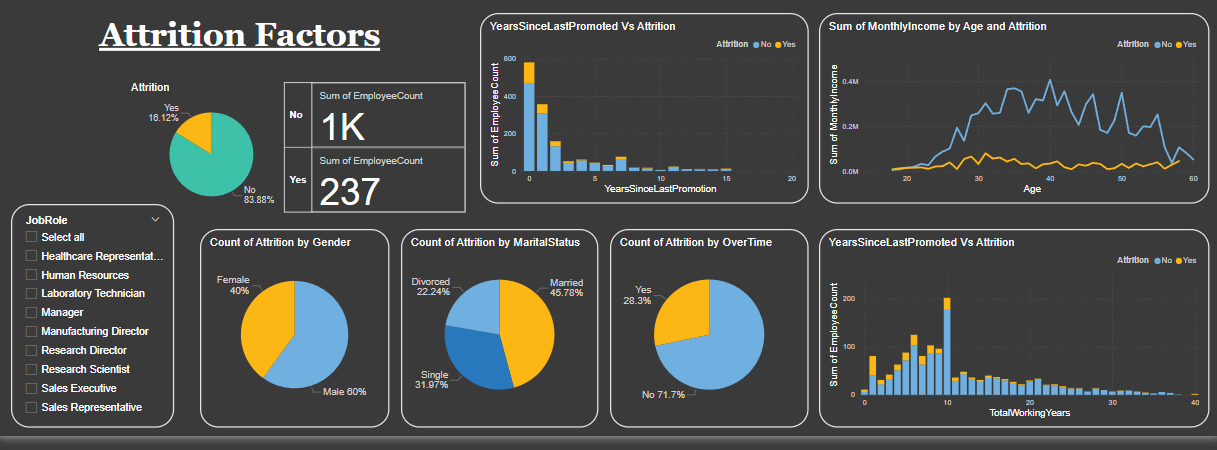

Layout of this report page (visuals, bound fields, positions):
{"tool":"powerbi","page":{"name":"Page 1","canvas":[2000,720],"ordinal":0},"visuals":[{"type":"columnChart","title":"YearsSinceLastPromoted  Vs Attrition","fields":{"Y":["Sum(employee_data.EmployeeCount)"],"Category":["employee_data.YearsSinceLastPromotion"],"Series":["employee_data.Attrition"]},"box":[789.2,28,537.6,311.8],"z":0},{"type":"pieChart","title":"Attrition","fields":{"Y":["CountNonNull(employee_data.Attrition)"],"Category":["employee_data.Attrition"]},"box":[212.9,139.8,273.1,219.4],"z":1000},{"type":"columnChart","title":"YearsSinceLastPromoted  Vs Attrition","fields":{"Y":["Sum(employee_data.EmployeeCount)"],"Category":["employee_data.TotalWorkingYears"],"Series":["employee_data.Attrition"]},"box":[1344.1,380.6,638.7,324.7],"z":2000},{"type":"pieChart","fields":{"Category":["employee_data.OverTime"],"Y":["CountNonNull(employee_data.Attrition)"]},"box":[1002.2,380.6,324.7,324.7],"z":3000},{"type":"lineChart","fields":{"Category":["employee_data.Age"],"Y":["Sum(employee_data.MonthlyIncome)"],"Series":["employee_data.Attrition"]},"box":[1344.1,28,638.7,311.8],"z":4000},{"type":"pieChart","fields":{"Category":["employee_data.MaritalStatus"],"Y":["CountNonNull(employee_data.Attrition)"]},"box":[660.2,380.6,322.6,324.7],"z":5000},{"type":"cardVisual","fields":{"Data":["Sum(employee_data.EmployeeCount)"],"Rows":["employee_data.Attrition"]},"box":[462.4,116.1,307.5,264.5],"z":6000},{"type":"pieChart","fields":{"Y":["CountNonNull(employee_data.Attrition)"],"Category":["employee_data.Gender"]},"box":[331.2,380.6,309.7,324.7],"z":6001},{"type":"textbox","box":[21.5,28,748.4,88.2],"z":6002},{"type":"slicer","fields":{"Values":["employee_data.JobRole"]},"box":[21.5,339.8,266.7,365.6],"z":6003}]}

Visuals, with their boxes in screenshot pixels (x1, y1, x2, y2), scaled from the page's 2000x720 canvas onto the 1217x450 screenshot:
"YearsSinceLastPromoted  Vs Attrition" columnChart: (left=480, top=18, right=807, bottom=212)
"Attrition" pieChart: (left=130, top=87, right=296, bottom=225)
"YearsSinceLastPromoted  Vs Attrition" columnChart: (left=818, top=238, right=1207, bottom=441)
pieChart - employee_data.OverTime x CountNonNull(employee_data.Attrition): (left=610, top=238, right=807, bottom=441)
lineChart - employee_data.Age x Sum(employee_data.MonthlyIncome): (left=818, top=18, right=1207, bottom=212)
pieChart - employee_data.MaritalStatus x CountNonNull(employee_data.Attrition): (left=402, top=238, right=598, bottom=441)
cardVisual - Sum(employee_data.EmployeeCount) x employee_data.Attrition: (left=281, top=73, right=468, bottom=238)
pieChart - CountNonNull(employee_data.Attrition) x employee_data.Gender: (left=202, top=238, right=390, bottom=441)
textbox: (left=13, top=18, right=468, bottom=73)
slicer - employee_data.JobRole: (left=13, top=212, right=175, bottom=441)
